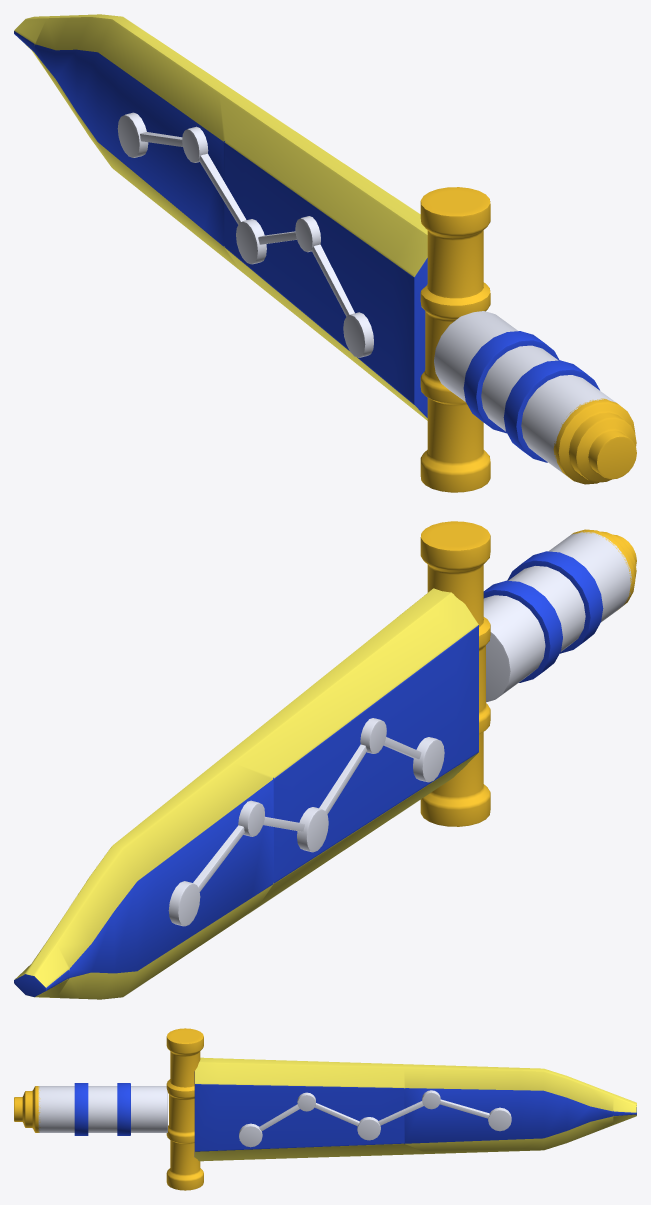
Rendered from Sword_ObservatoryBroadsword.glb.
3 renders of one model, top to bottom at view 1: azimuth 30°, elevation 25°; view 2: azimuth 150°, elevation 25°; view 3: azimuth 270°, elevation 25°, orthographic. The views are drawn at different scales.
Visible parts, largest first — view 1: Sword_ObservatoryBroadsword; view 2: Sword_ObservatoryBroadsword; view 3: Sword_ObservatoryBroadsword.
Boxes of the visible parts, x1,y1,x2,y2 form: Sword_ObservatoryBroadsword: [14, 14, 636, 492]; Sword_ObservatoryBroadsword: [14, 521, 636, 999]; Sword_ObservatoryBroadsword: [14, 1028, 636, 1190].
Bounding box in the file's own units: 0.086 × 0.26 × 1.
1 material, 1 textured.
